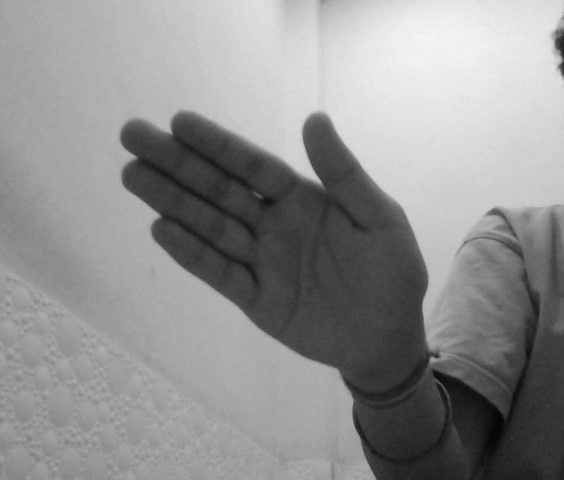Hello: (116, 106, 430, 365)
